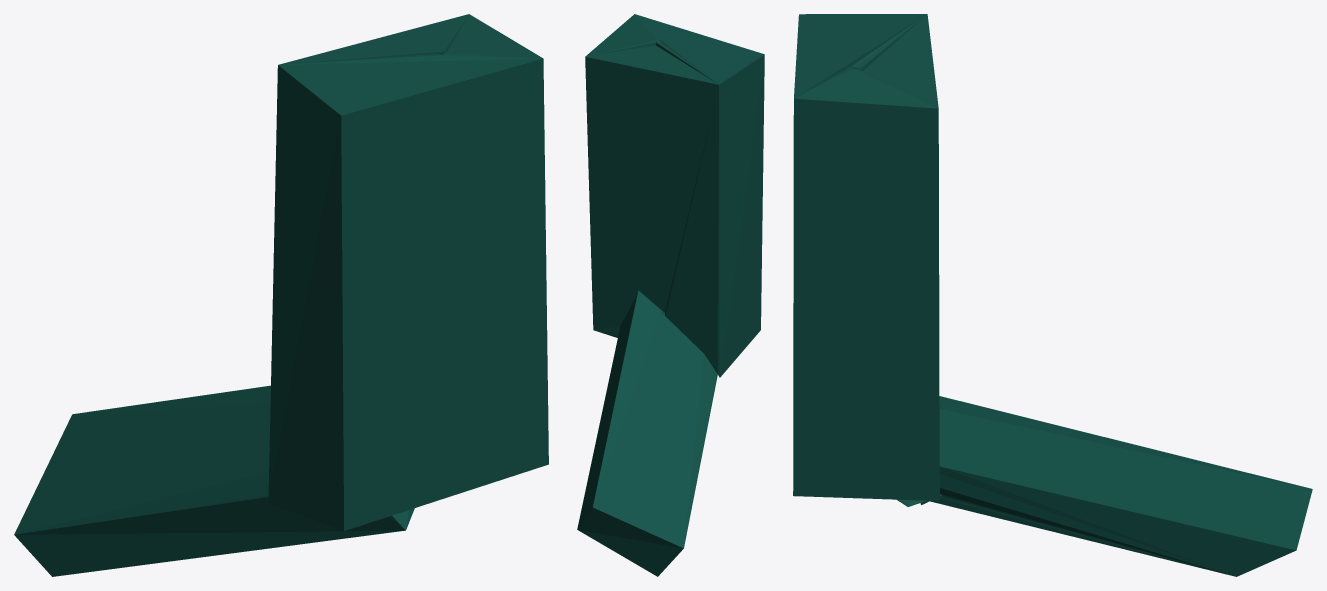
3 renders of one model, left to right at view 1: azimuth 30°, elevation 25°; view 2: azimuth 150°, elevation 25°; view 3: azimuth 270°, elevation 25°, orthographic. The views are drawn at different scales.
Visible parts, largest first — view 1: 947_Cube.3830; view 2: 947_Cube.3830; view 3: 947_Cube.3830.
Part boxes in pixels (x1,y1,x2,y2): 947_Cube.3830: (14,14,548,576); 947_Cube.3830: (577,14,764,576); 947_Cube.3830: (793,14,1312,576).
Bounding box in the file's own units: 8.84 × 17.08 × 13.34.
